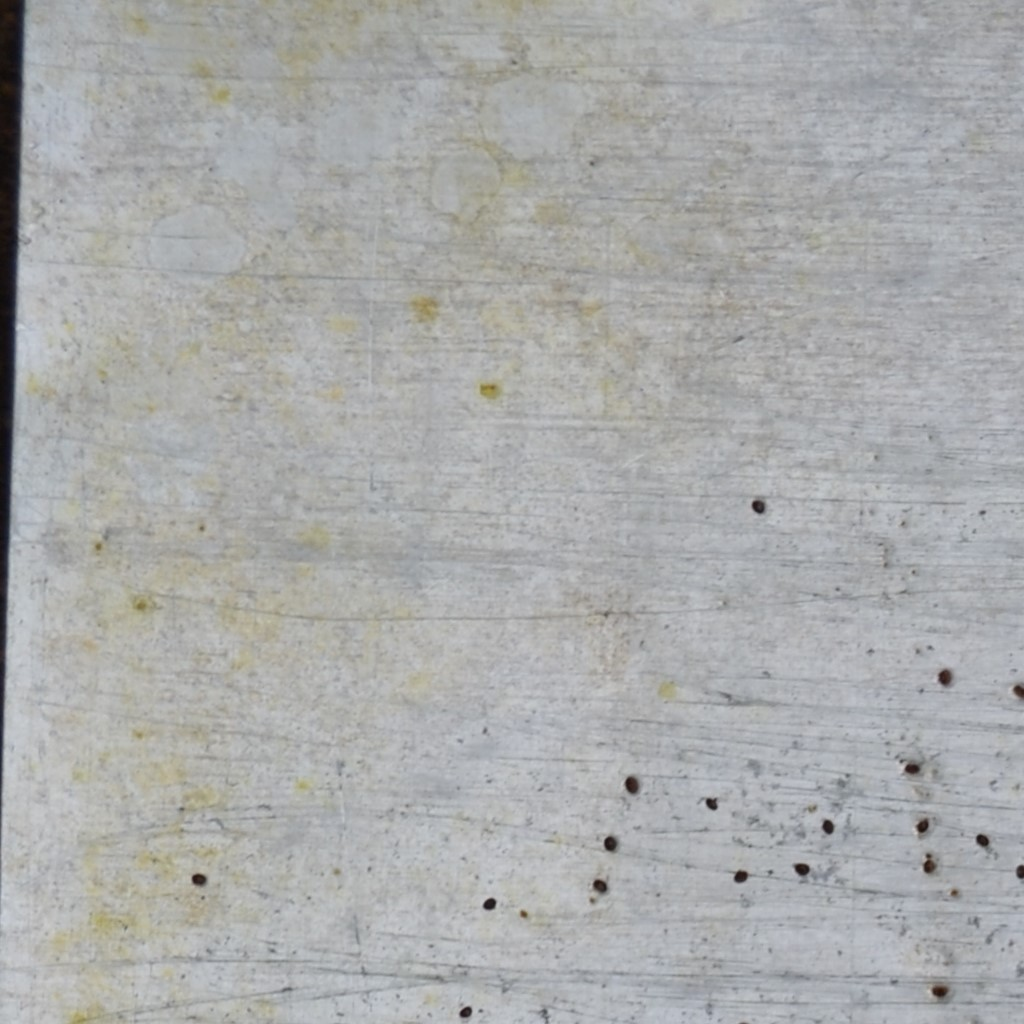varroa: (622, 771, 642, 796), (929, 982, 953, 999), (602, 831, 618, 855), (792, 857, 812, 876), (914, 814, 932, 835), (919, 852, 935, 875), (590, 876, 609, 895), (749, 496, 766, 517), (732, 867, 750, 886), (819, 817, 838, 834), (481, 895, 497, 915), (704, 794, 721, 812), (937, 665, 953, 684), (902, 760, 921, 776), (189, 871, 208, 887), (974, 831, 991, 848), (455, 1004, 474, 1019), (1014, 863, 1023, 879)
